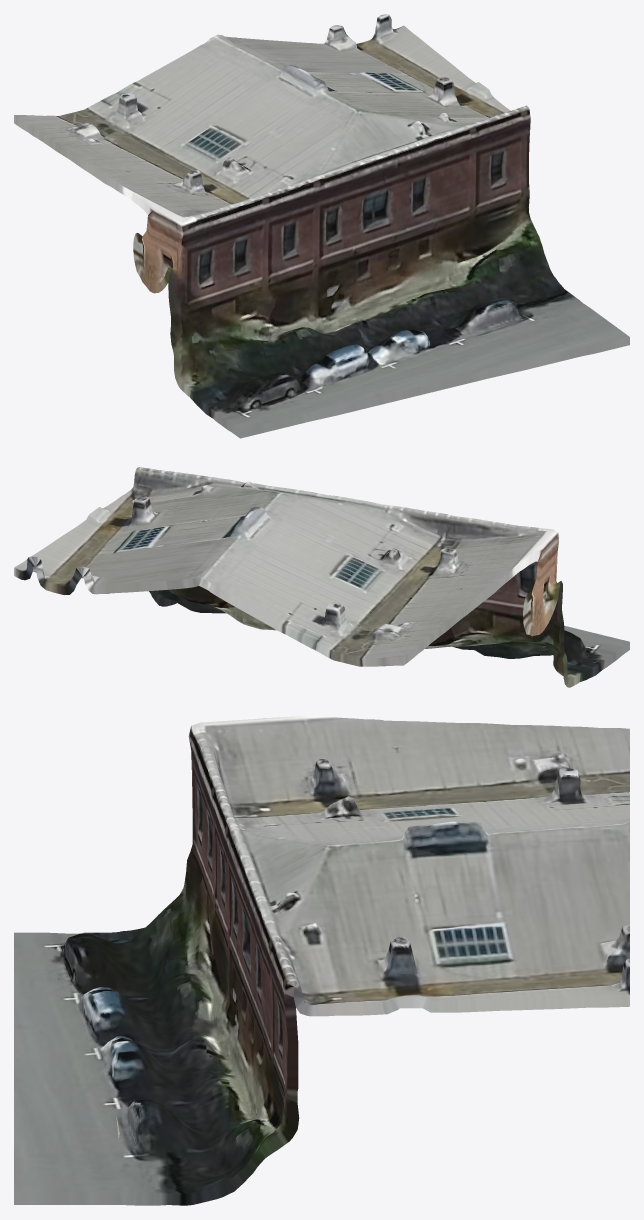
Rendered from z20-167770-405199-h0-yup-uvflip-v3-world.glb.
3 views of the same model, one above another, from view 1: azimuth 30°, elevation 25°; view 2: azimuth 150°, elevation 25°; view 3: azimuth 270°, elevation 25° (orthographic). The views are drawn at different scales.
Size of the model in its own units: 30.16 by 14.76 by 30.32.
1 material, 1 textured.
